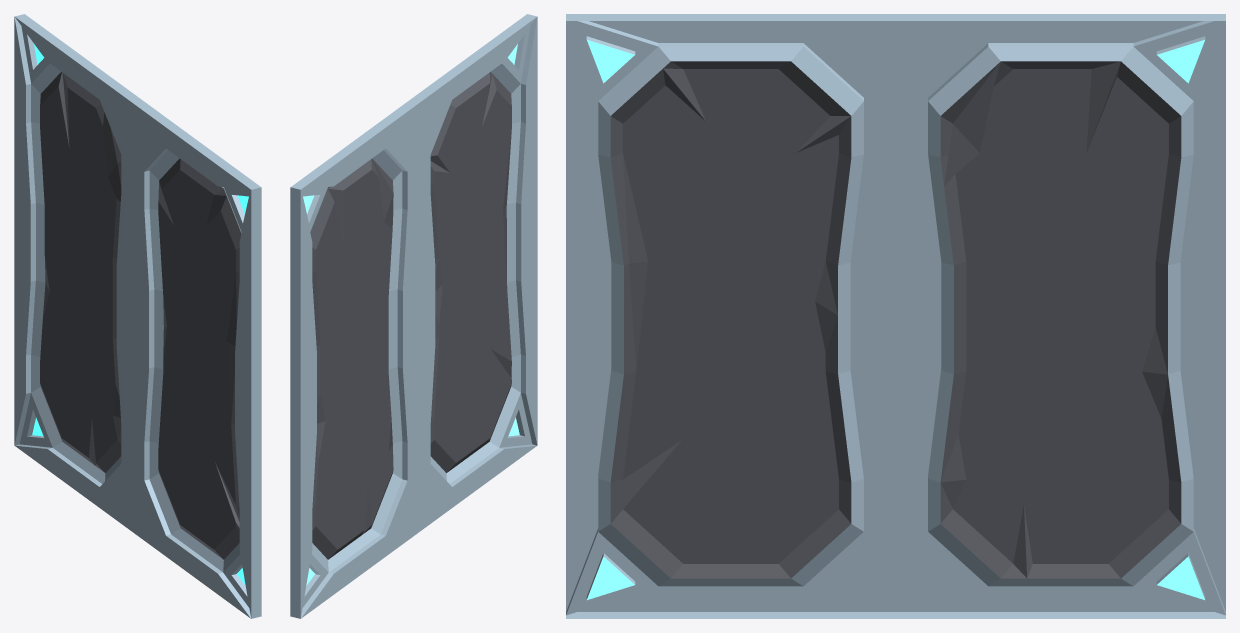
The model's file is Wall_Small_Square.fbx.
3 renders of one model, left to right at view 1: azimuth 30°, elevation 25°; view 2: azimuth 150°, elevation 25°; view 3: azimuth 270°, elevation 25°, orthographic. The views are drawn at different scales.
Visible parts, largest first — view 1: Wall_Small_Square; view 2: Wall_Small_Square; view 3: Wall_Small_Square.
Part boxes in pixels (x1=…): Wall_Small_Square: x1=14, y1=14, x2=261, y2=618; Wall_Small_Square: x1=290, y1=14, x2=537, y2=618; Wall_Small_Square: x1=566, y1=14, x2=1225, y2=618.
Bounding box in the file's own units: 0.1 × 4 × 4.
